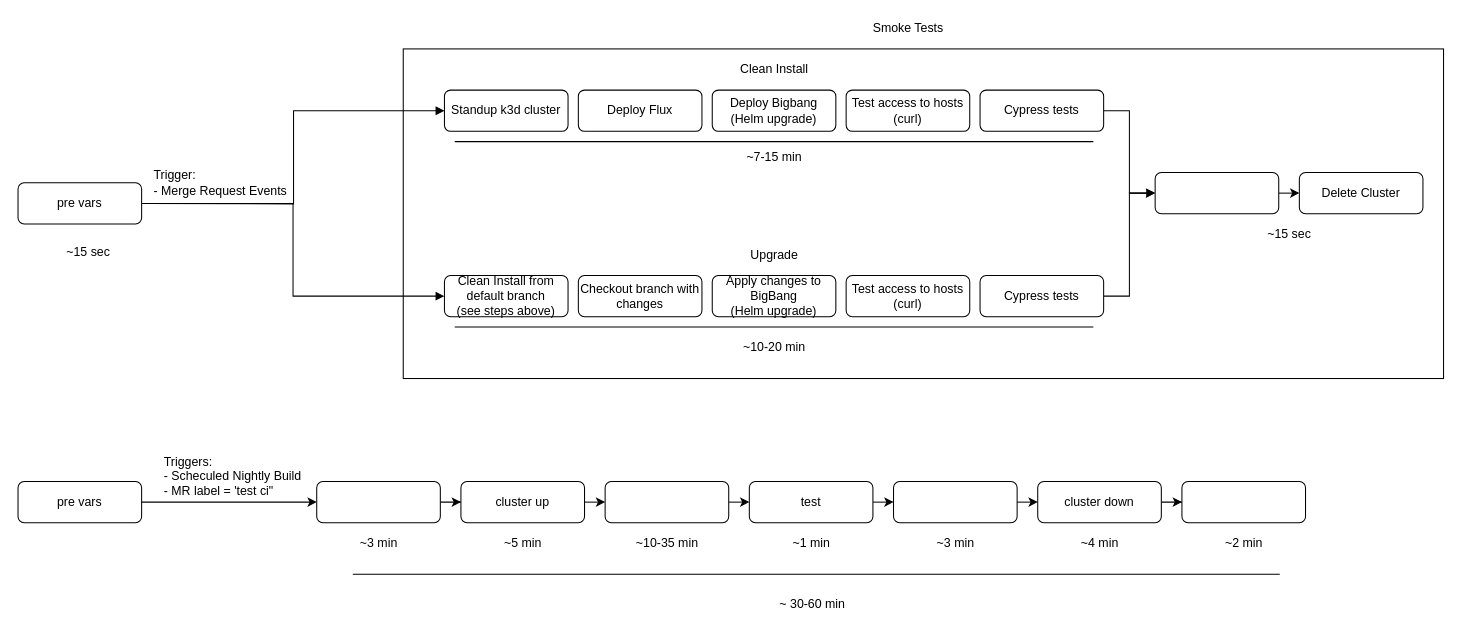
Image size: 1462x631. Some labels were removed from this diagram. The shapes that lost their labels are listed below. From the top down, each one's centre as x and y in pixels, then its label:
At point (1216, 192): "Display all resources".
At point (378, 501): "network up".
At point (666, 501): "bigbang up".
At point (954, 501): "bigbang down".
At point (1243, 501): "network down".
